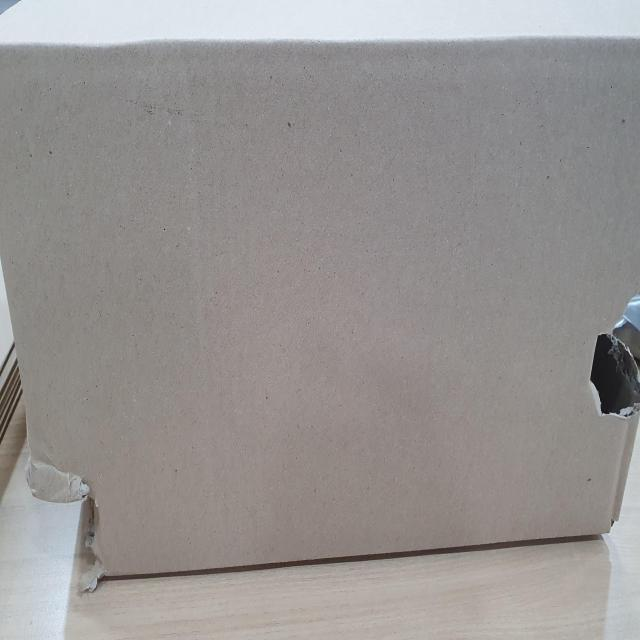damaged: (589, 282, 640, 428)
